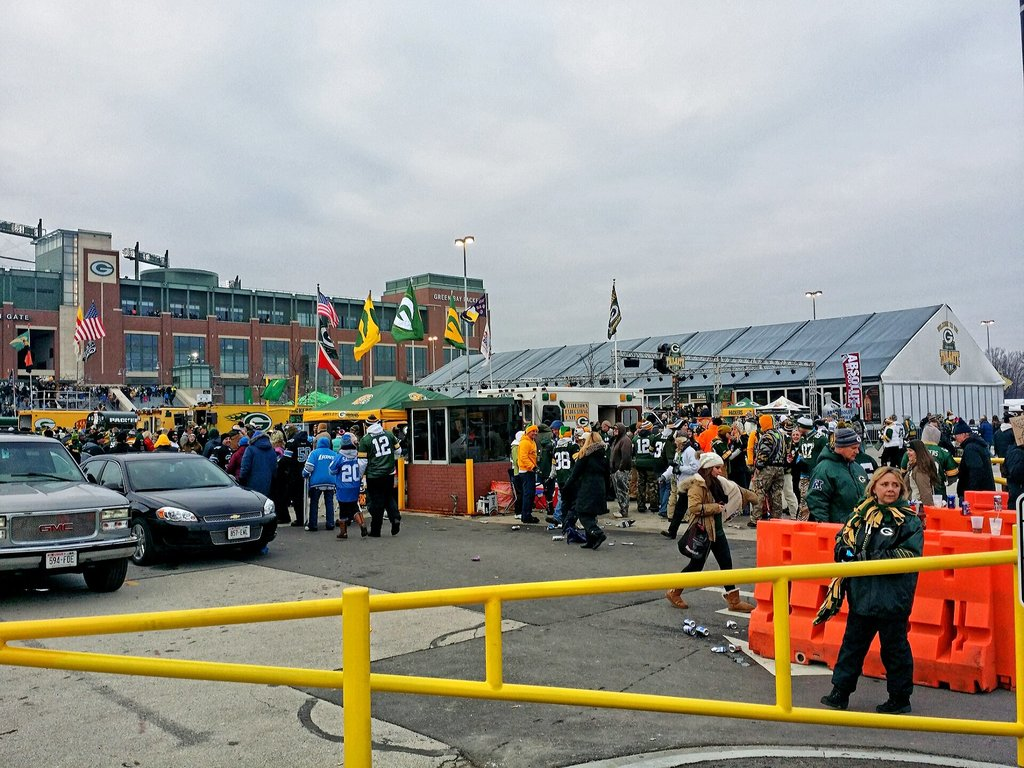Car: (69, 451, 275, 563), (0, 430, 140, 590), (1, 449, 80, 475)
